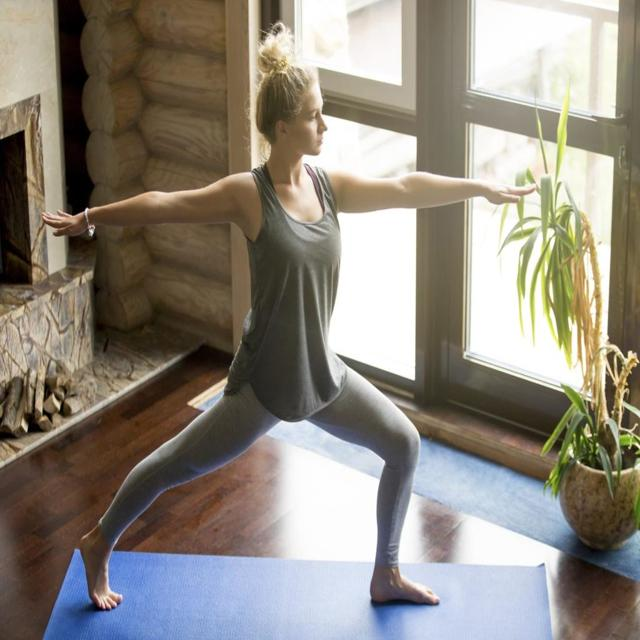Warrior_II: (38, 47, 537, 614)
